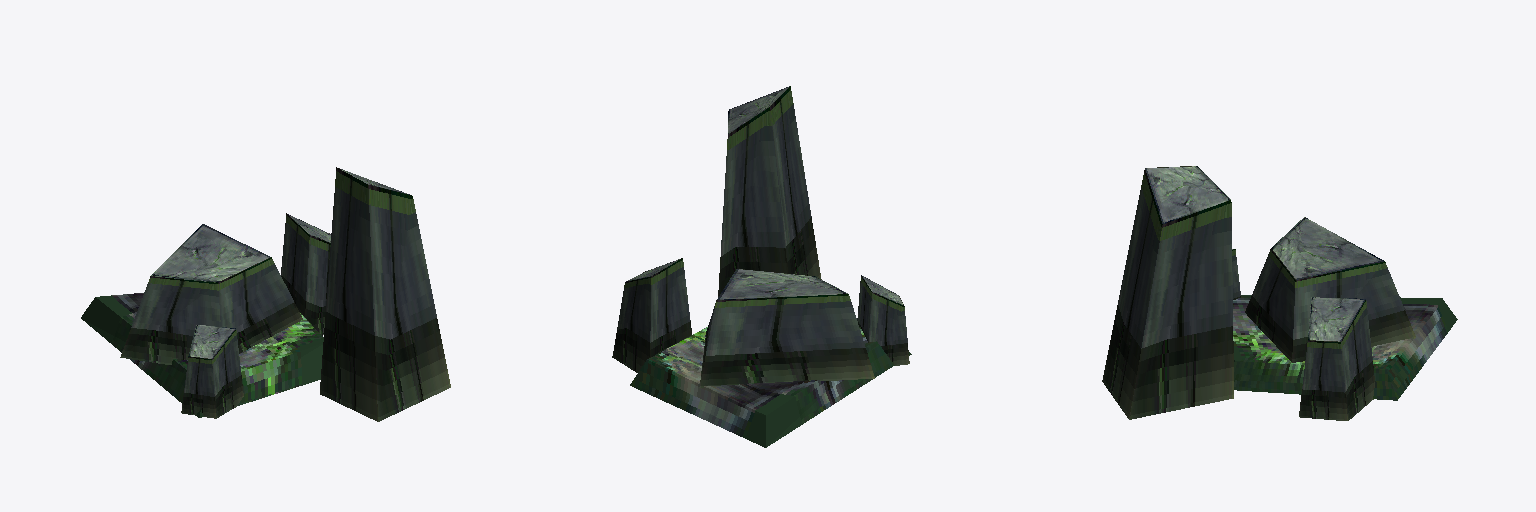
3 renders of one model, left to right at view 1: azimuth 30°, elevation 25°; view 2: azimuth 150°, elevation 25°; view 3: azimuth 270°, elevation 25°, orthographic.
Visible parts, largest first — view 1: NorthrendRubble2; view 2: NorthrendRubble2; view 3: NorthrendRubble2.
Part boxes in pixels (x1,y1,x2,y2): NorthrendRubble2: (81, 167, 450, 421); NorthrendRubble2: (612, 86, 911, 447); NorthrendRubble2: (1102, 166, 1457, 420).
Bounding box in the file's own units: 2.91 × 2.51 × 3.68.
1 materials, 1 textured.